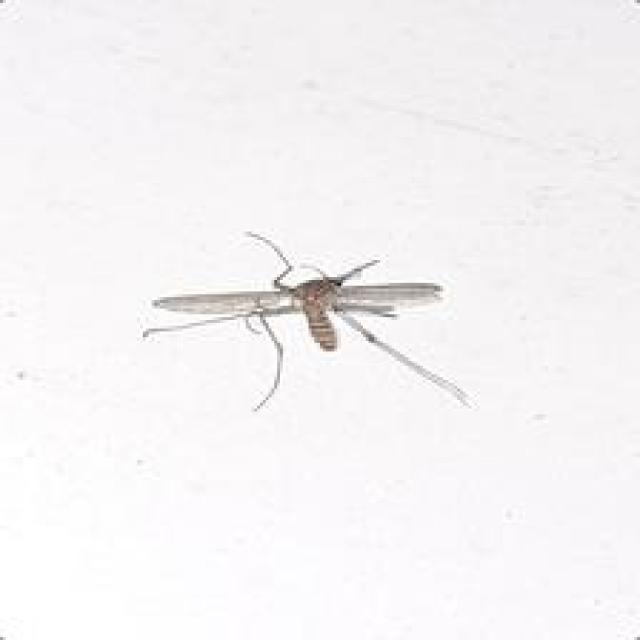Culex: (141, 230, 473, 413)
